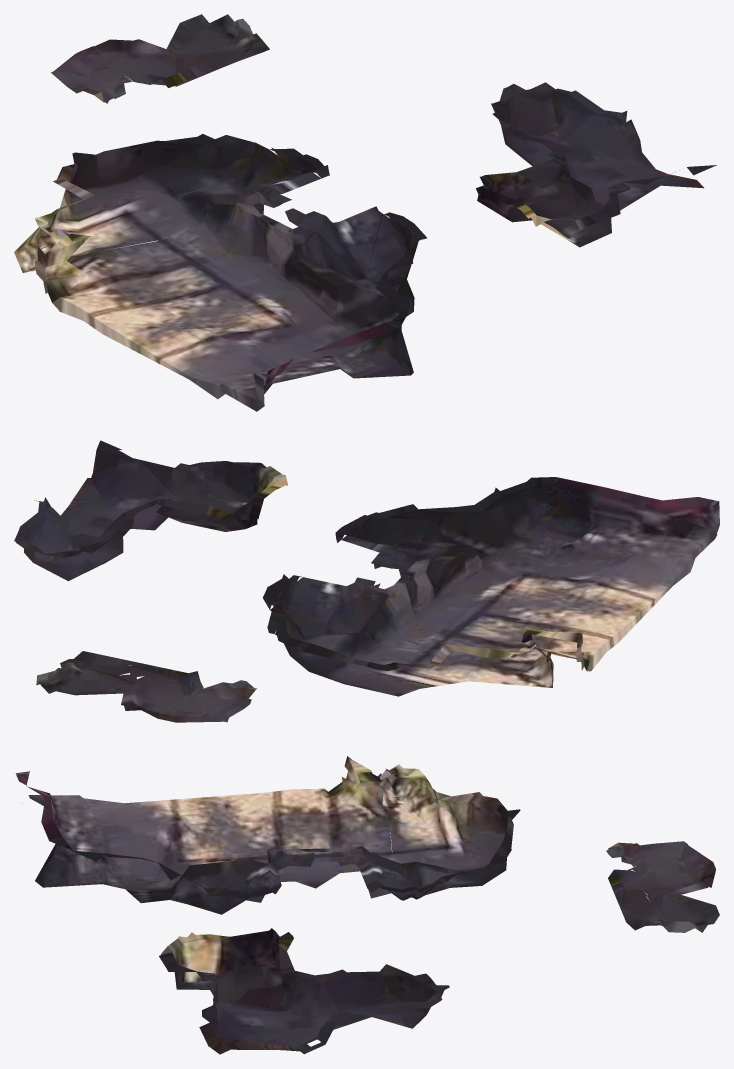
3 renders of one model, top to bottom at view 1: azimuth 30°, elevation 25°; view 2: azimuth 150°, elevation 25°; view 3: azimuth 270°, elevation 25°, orthographic. The views are drawn at different scales.
Visible parts, largest first — view 1: Mesh_0; view 2: Mesh_0; view 3: Mesh_0.
Part boxes in pixels (x1,y1,x2,y2): Mesh_0: [14, 14, 716, 411]; Mesh_0: [14, 440, 719, 722]; Mesh_0: [15, 756, 719, 1054].
Bounding box in the file's own units: 30.25 × 2.84 × 34.13.
Materials: 1 (1 with a texture image).
